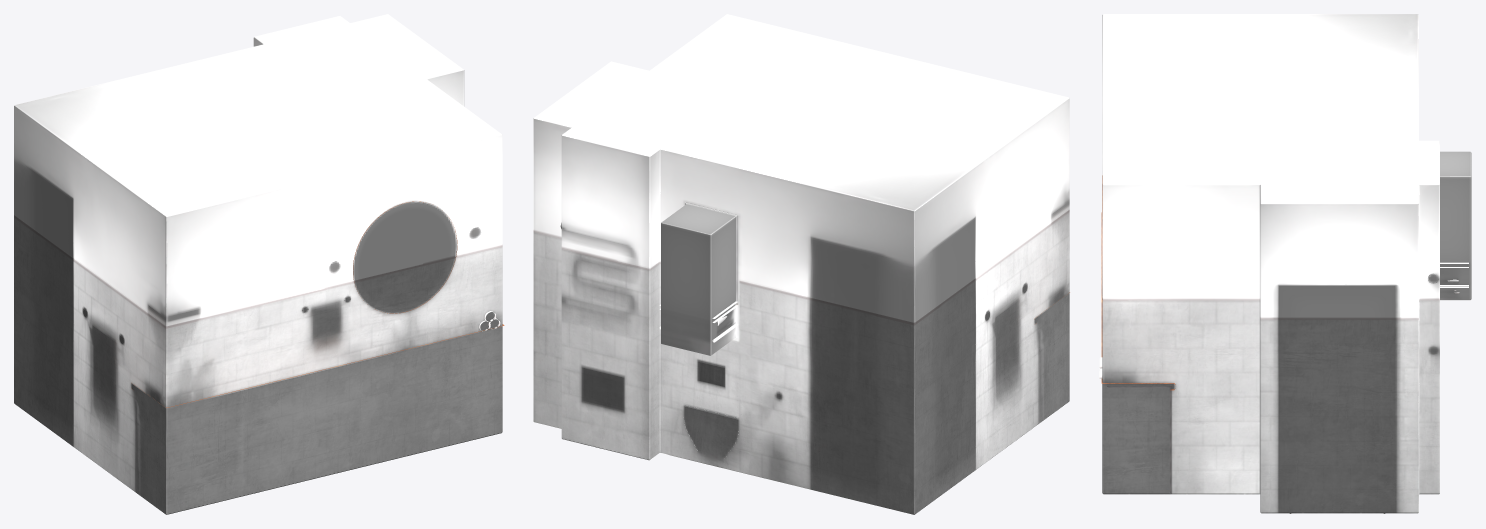
Rendered from bathroom.fbx.
The picture shows the model from 3 angles, left to right: view 1: azimuth 30°, elevation 25°; view 2: azimuth 150°, elevation 25°; view 3: azimuth 270°, elevation 25°; orthographic projection. The views are drawn at different scales.
Visible parts, largest first — view 1: Cube.011_walls_0; view 2: Cube.011_walls_0; view 3: Cube.011_walls_0, Cube.016_walls_0.
Part boxes in pixels (<box>): Cube.011_walls_0: <box>14,14,502,514</box>; Cube.011_walls_0: <box>533,14,1069,514</box>; Cube.011_walls_0: <box>1102,14,1471,513</box>; Cube.016_walls_0: <box>1107,386,1171,493</box>.
Size of the model in its own units: 328 by 251 by 272.
Materials: 4 (4 with a texture image).
